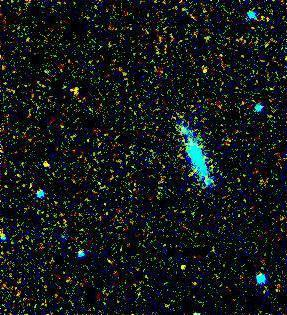star: (32, 150, 62, 180)
